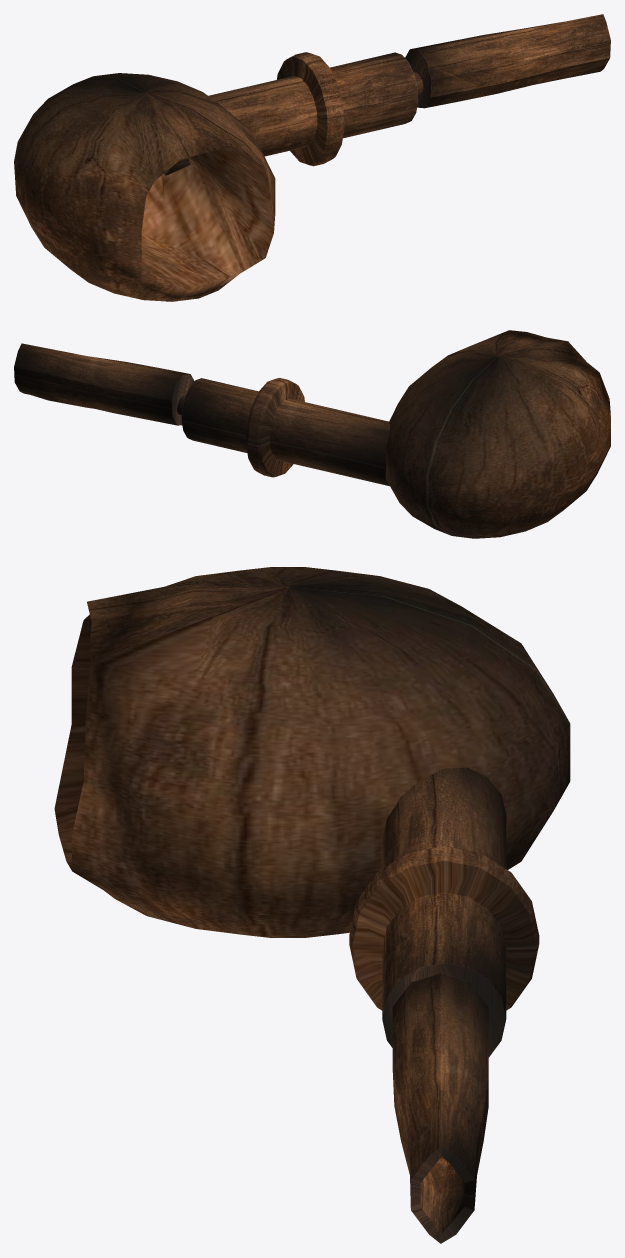
File: _pipe.FBX
3 views of the same model, one above another, from view 1: azimuth 30°, elevation 25°; view 2: azimuth 150°, elevation 25°; view 3: azimuth 270°, elevation 25° (orthographic). The views are drawn at different scales.
Parts seen in each view (by area): view 1: Sphere001, Cylinder005; view 2: Sphere001, Cylinder005; view 3: Sphere001, Cylinder005.
Part boxes in pixels (x1=…): Sphere001: x1=14, y1=52, x2=423, y2=301; Cylinder005: x1=405, y1=14, x2=610, y2=108; Sphere001: x1=177, y1=330, x2=610, y2=538; Cylinder005: x1=14, y1=343, x2=194, y2=425; Sphere001: x1=54, y1=567, x2=570, y2=1057; Cylinder005: x1=392, y1=973, x2=488, y2=1243.
Size of the model in its own units: 57.32 by 17.21 by 24.32.
